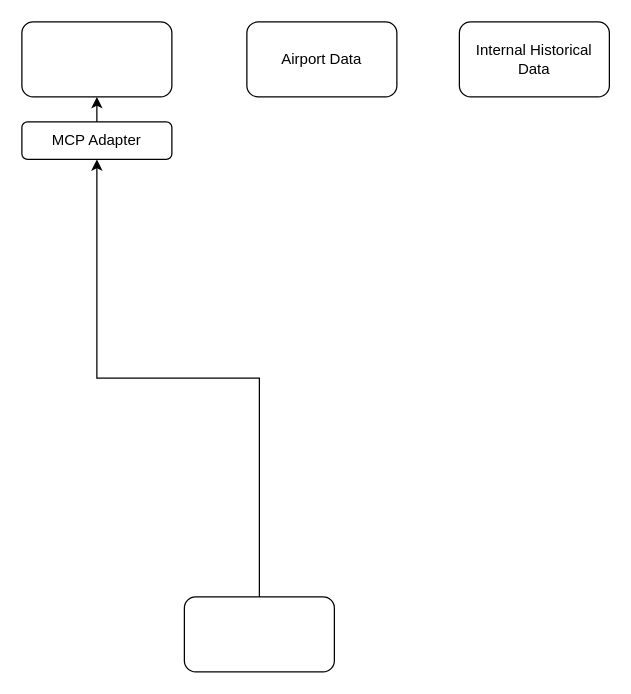
Some shapes in this 631 by 694 pixel diagram are drawn without their labels. Each missing label, with the centre of its shape:
"BedRock (Agent)" belongs at (x=258, y=634).
"LiveNation" belongs at (x=96, y=59).
